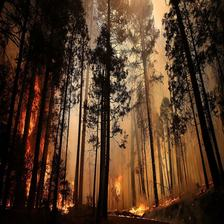fire: (14, 61, 69, 210)
